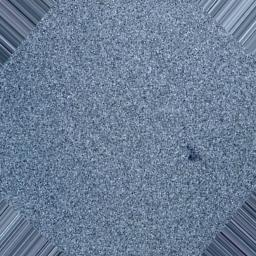Airplane: (184, 142, 206, 163)
